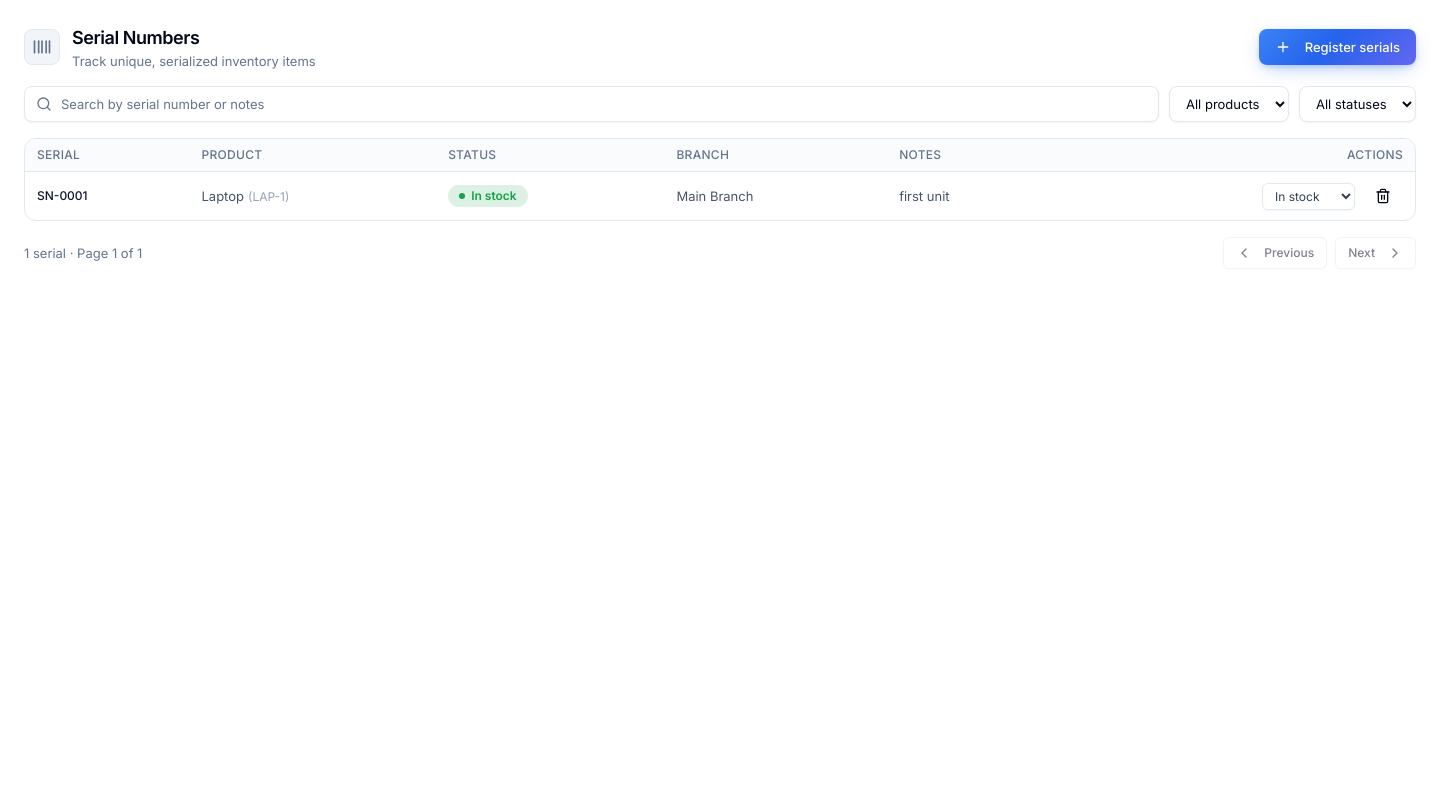
Test: SerialsView › opens the register dialog when register is clicked
Expected: the dialog "register serial numbers" is not shown
Click the button "Register serials" at (1337, 47), box [1259,29,1416,65]
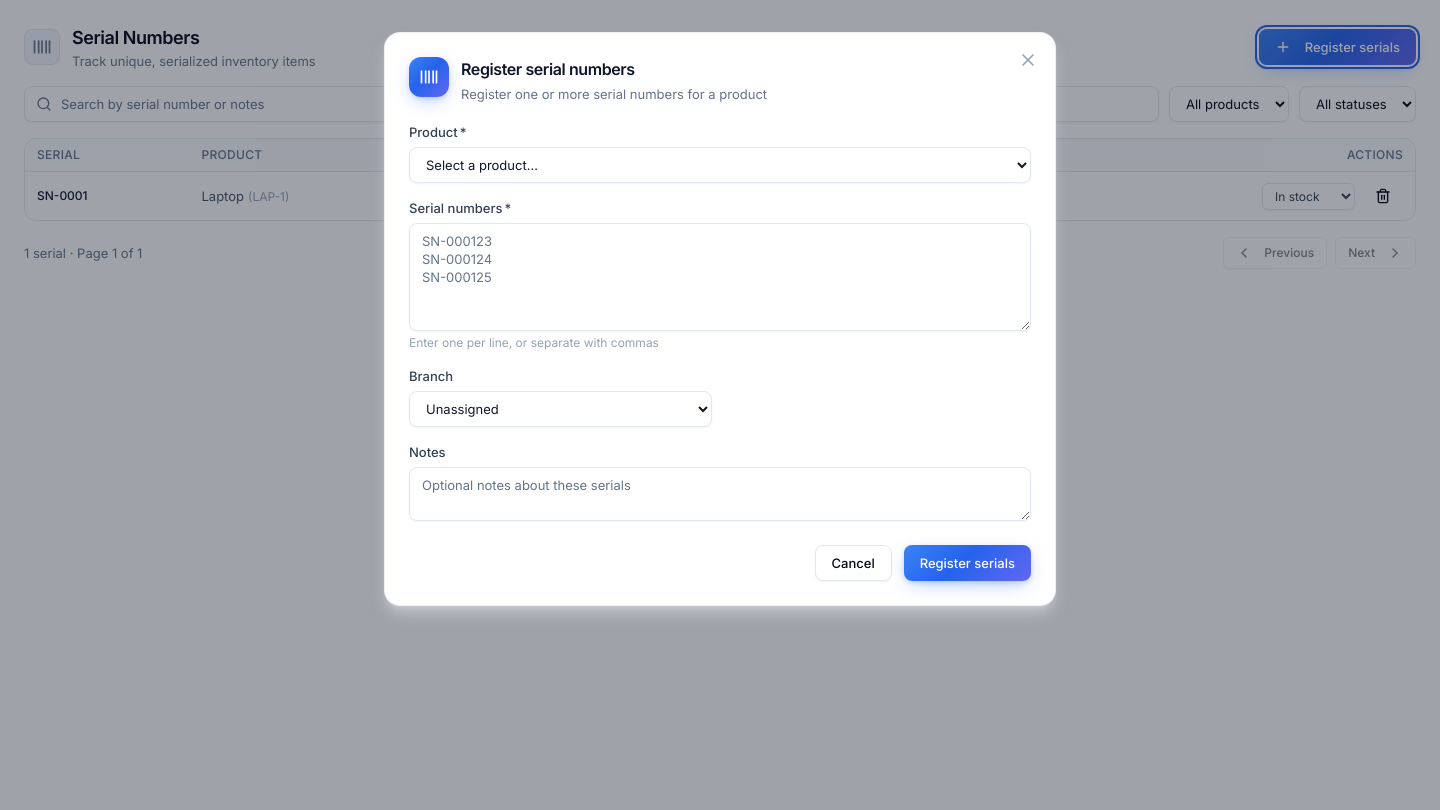
Expected: the dialog "Register serial numbers" is shown
